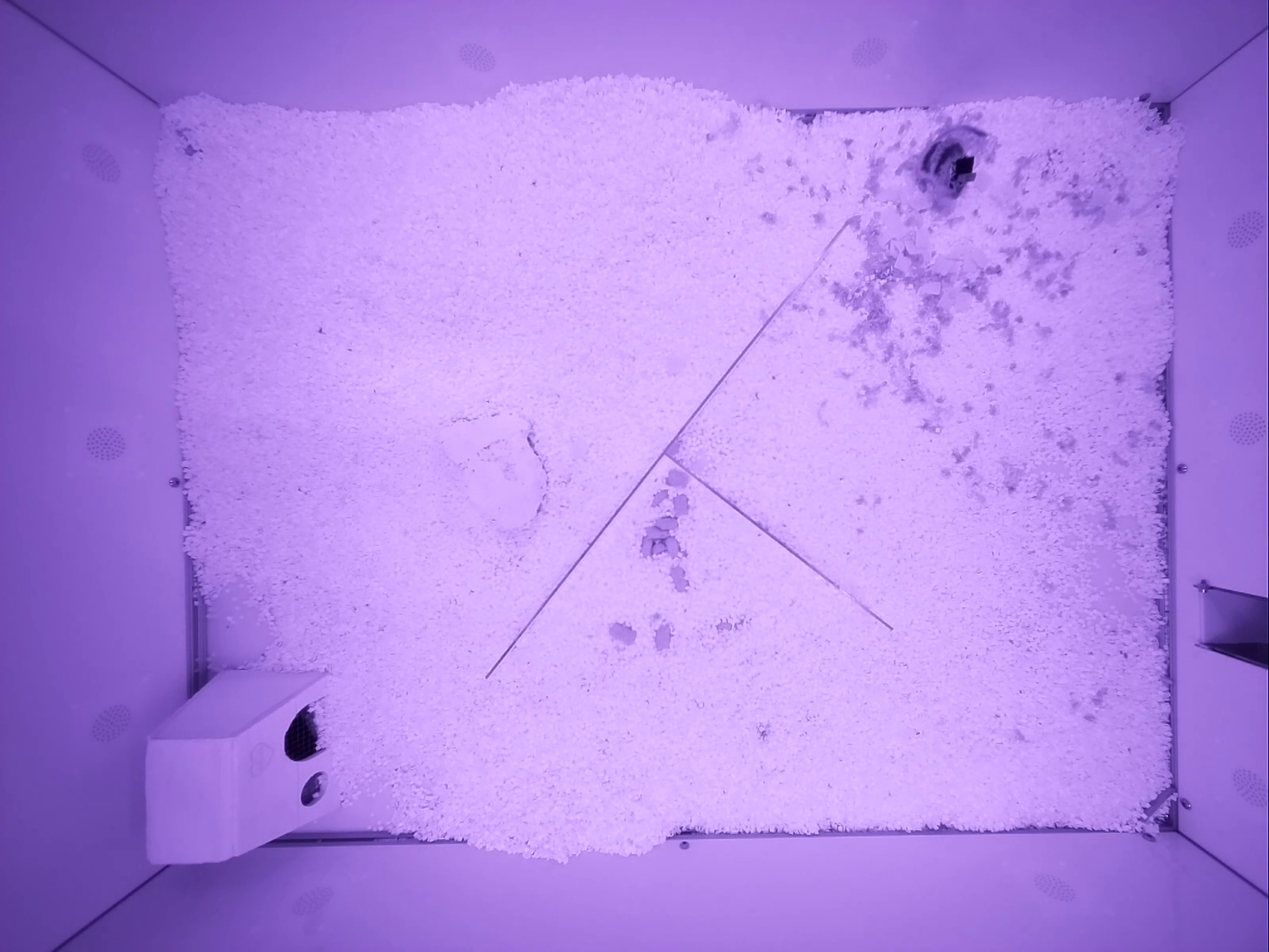adult_back: (918, 125, 986, 199)
